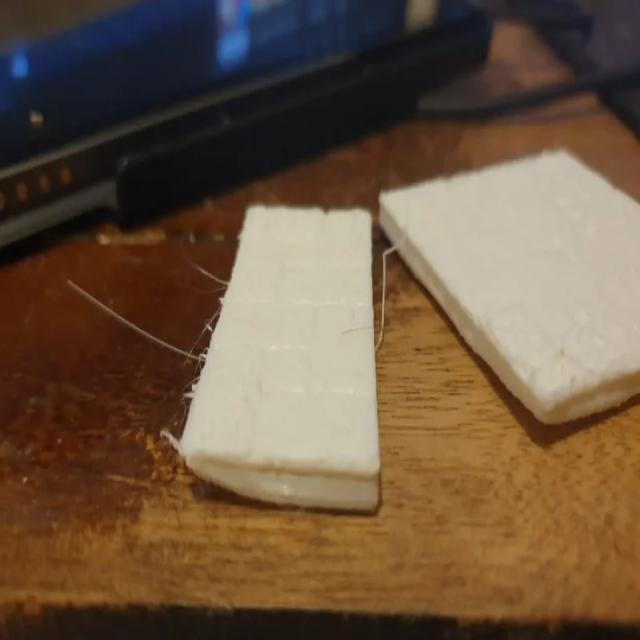stringing: (164, 320, 218, 374)
warping: (520, 392, 574, 444), (177, 450, 233, 495)
